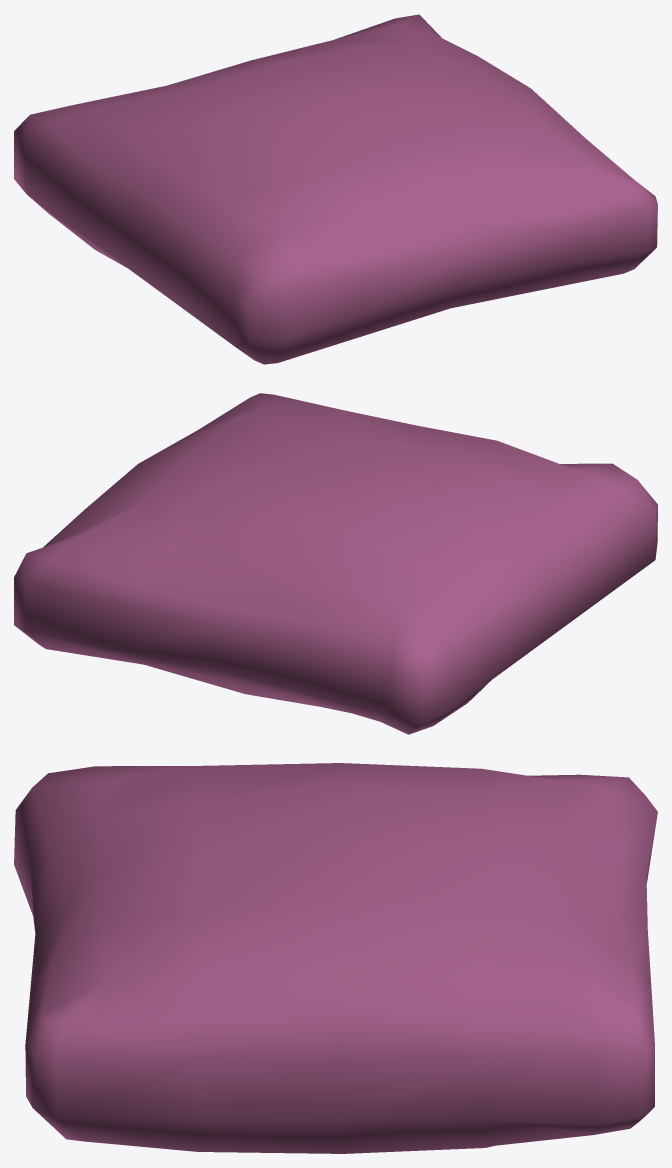
The model's file is cojín.fbx.
3 renders of one model, top to bottom at view 1: azimuth 30°, elevation 25°; view 2: azimuth 150°, elevation 25°; view 3: azimuth 270°, elevation 25°, orthographic. The views are drawn at different scales.
Parts seen in each view (by area): view 1: Cube; view 2: Cube; view 3: Cube.
Boxes of the visible parts, <box> form: Cube: <box>14,14,657,364</box>; Cube: <box>14,393,657,734</box>; Cube: <box>14,763,657,1153</box>.
Bounding box in the file's own units: 1.24 × 0.5252 × 1.25.
